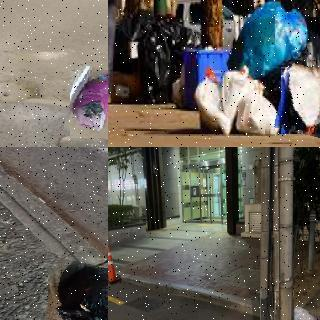Garbage: (231, 0, 310, 75), (44, 262, 108, 320), (66, 67, 108, 141), (277, 64, 320, 136), (189, 65, 231, 132), (232, 87, 280, 135), (290, 303, 320, 320)
